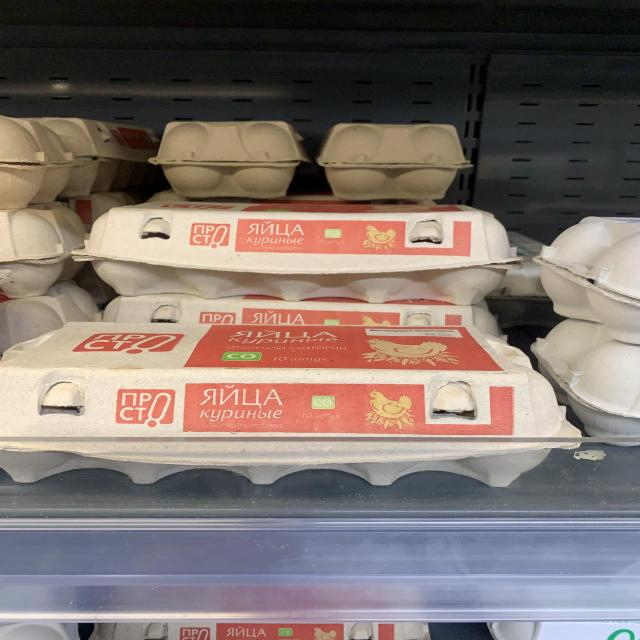organic waste: (0, 322, 582, 486), (75, 201, 530, 303), (542, 214, 640, 338), (148, 118, 302, 196), (314, 122, 468, 199), (0, 202, 84, 298), (0, 118, 75, 210)
